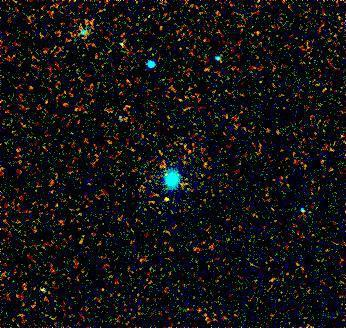star: (150, 183, 180, 213)
